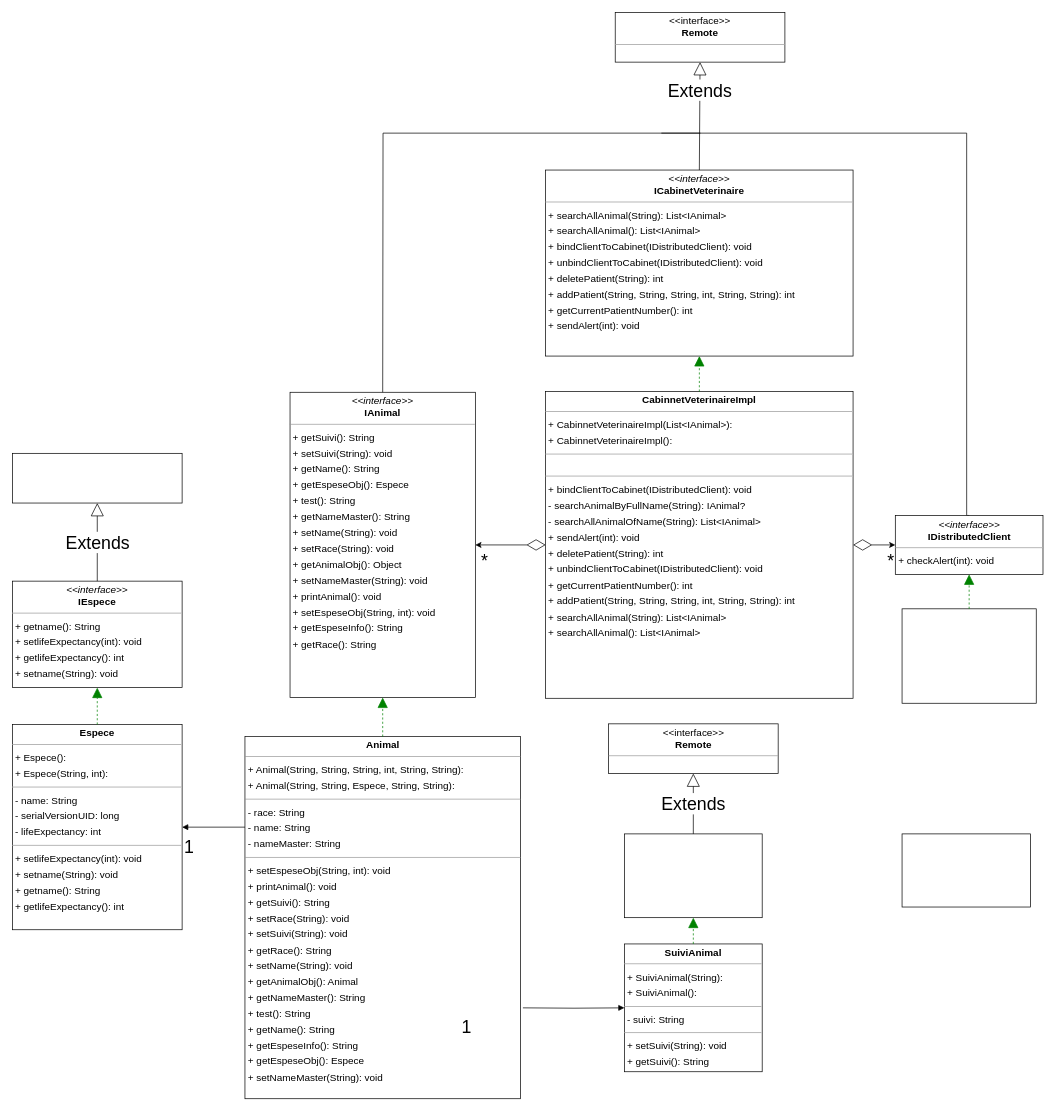
Some shapes in this 1056 by 1111 pixel diagram are drawn without their labels. The shapes that lost their labels are listed below. From the top down, each one's box as (x1, y1, x2, y2) in pixels, then its label:
(12, 453, 182, 503): <<interface>> Serializable
(901, 608, 1036, 703): Client + Client(): + main(String[]): void + checkAlert(int): void
(624, 833, 762, 918): <<interface>> ISuiviAnimal + getSuivi(): String + setSuivi(String): void
(901, 833, 1031, 907): Server + Server(): + main(String[]): void
